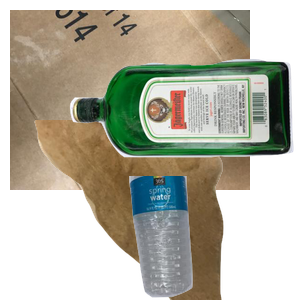cardboard: (10, 10, 250, 190)
glass: (67, 56, 300, 206)
plastic: (127, 176, 300, 300)
trash: (32, 120, 248, 300)
